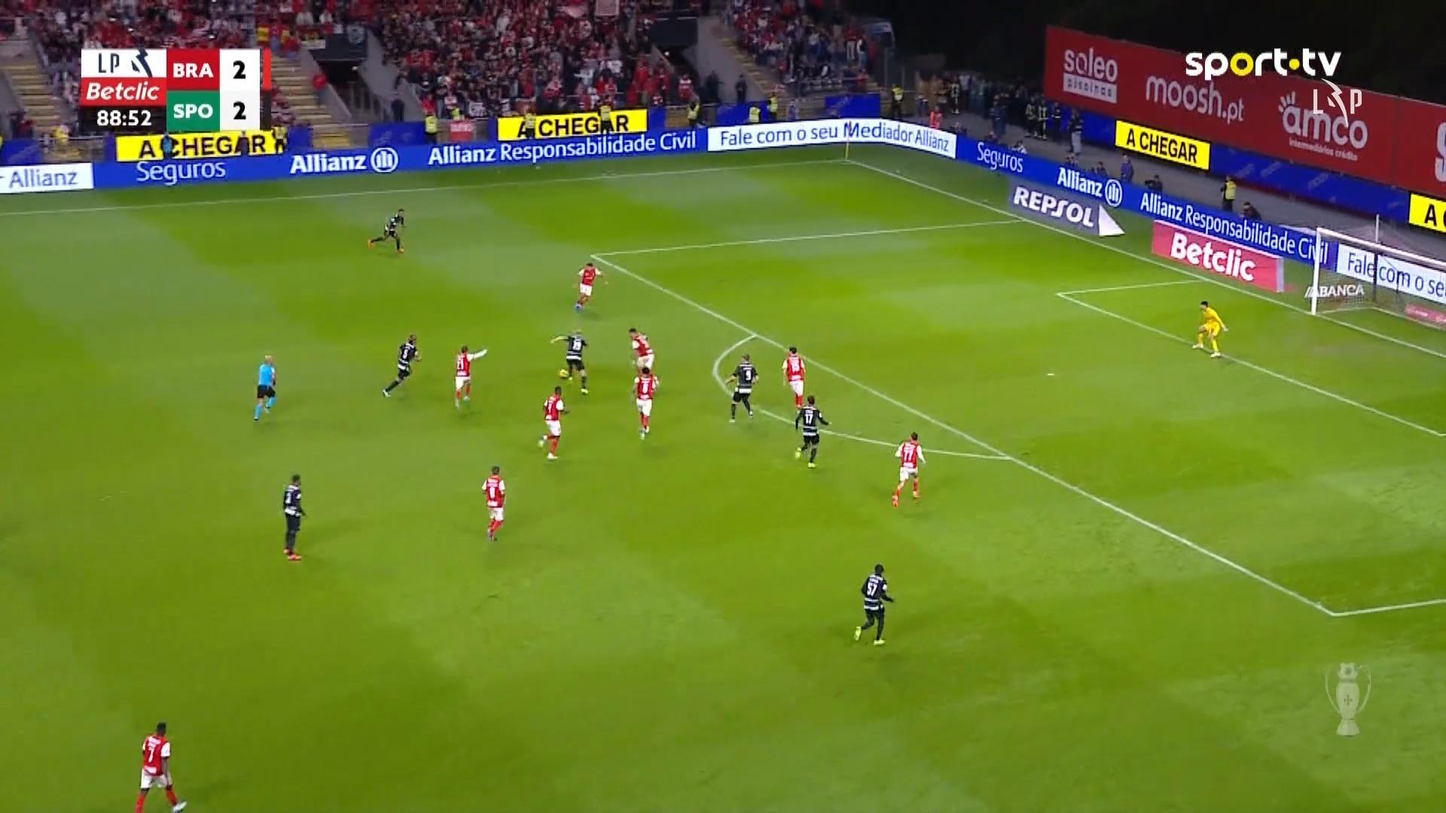ball: (557, 368, 569, 379)
goalkeeper: (1191, 299, 1228, 358)
player: (134, 720, 187, 811), (852, 562, 895, 645), (793, 394, 830, 468), (890, 431, 926, 507), (381, 332, 422, 398), (549, 328, 589, 394), (453, 343, 488, 410), (725, 352, 758, 423), (538, 385, 569, 460), (630, 365, 660, 439), (281, 473, 306, 560), (481, 464, 506, 540), (781, 345, 806, 421), (367, 206, 406, 253), (627, 326, 655, 380), (574, 260, 602, 312)
referee: (252, 354, 277, 421)
